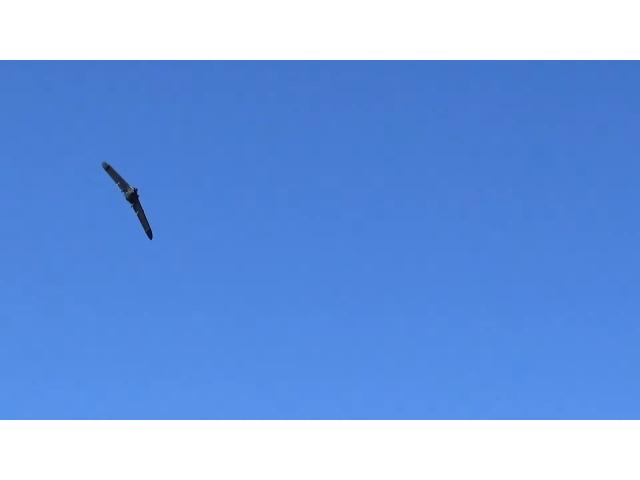Anti-Drone: (88, 152, 188, 245)
